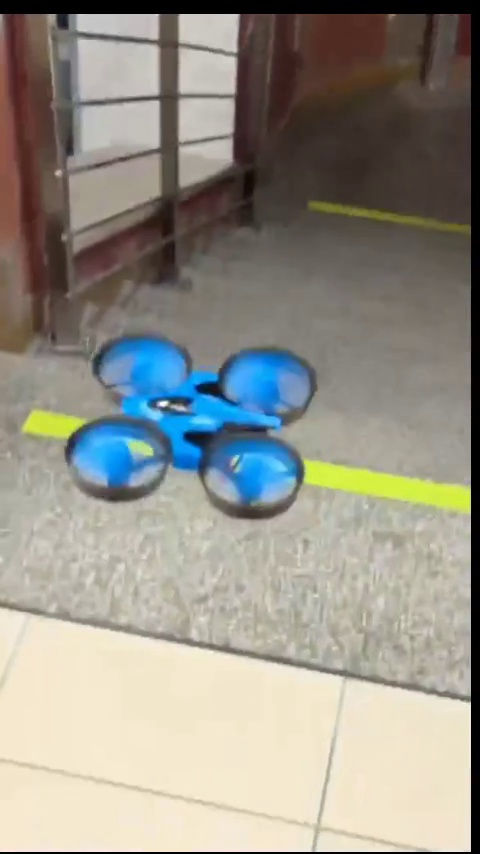drone: (66, 339, 316, 514)
